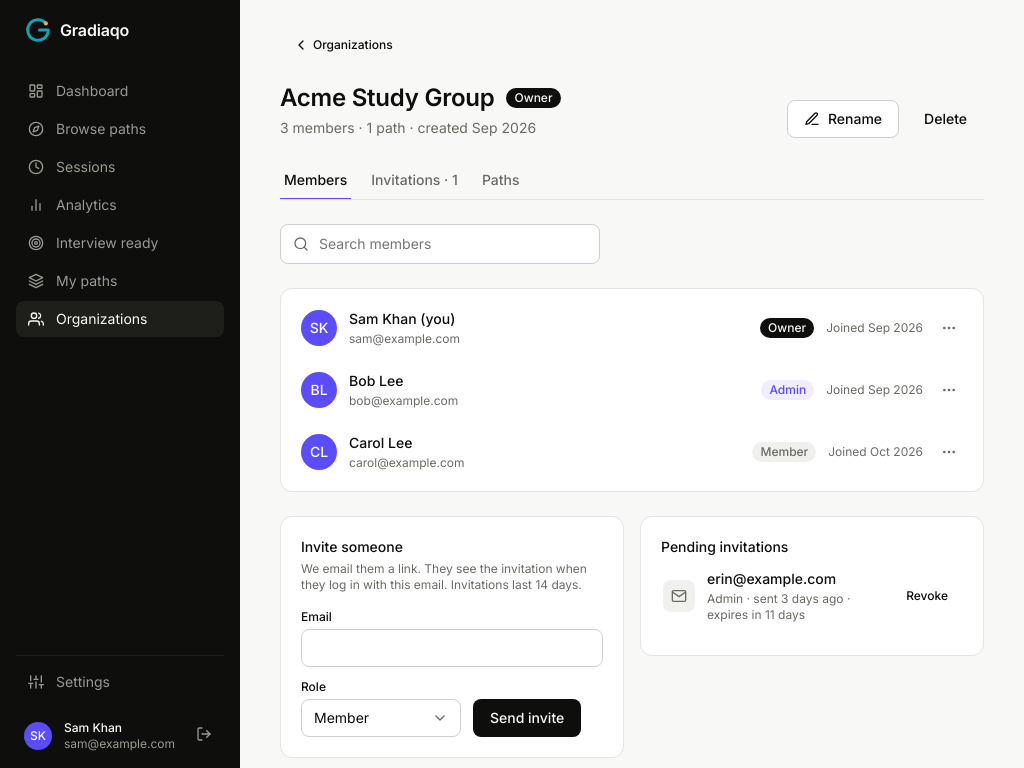
OrganizationPage › removes a member after confirming
Expected: the element named "Members" is shown, [280,288,984,492]
Click the button named "Actions for Carol Lee": (949,452) [935,438,963,466]
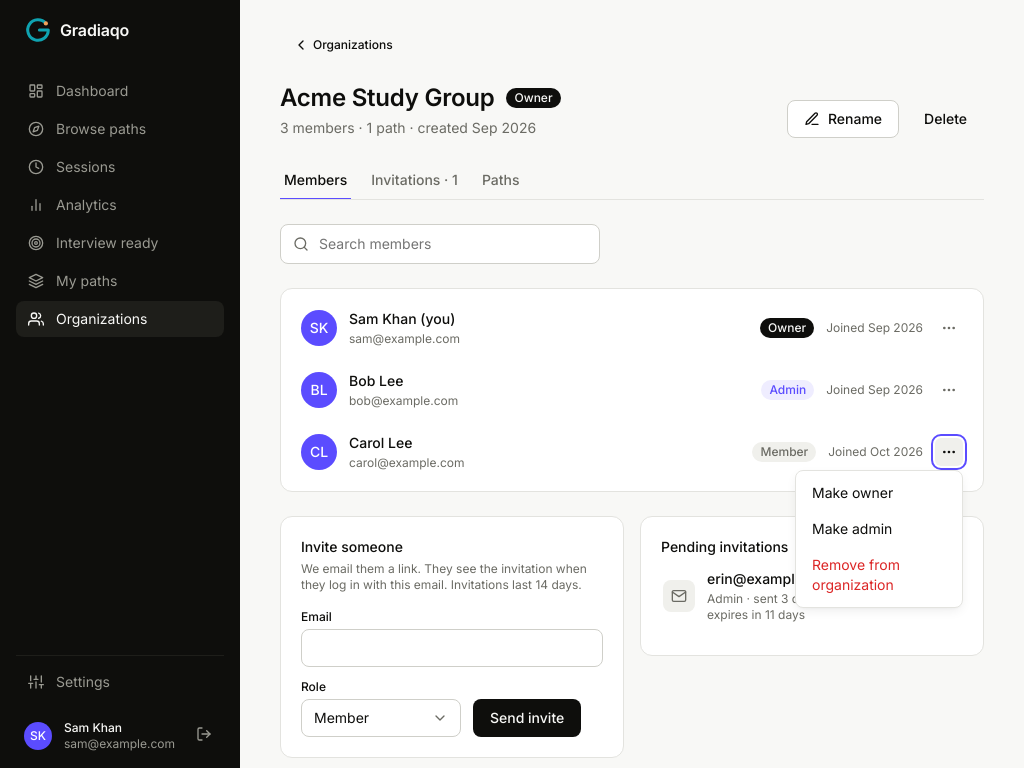
Click the button "Remove from organization": (879,575) [800,547,958,603]
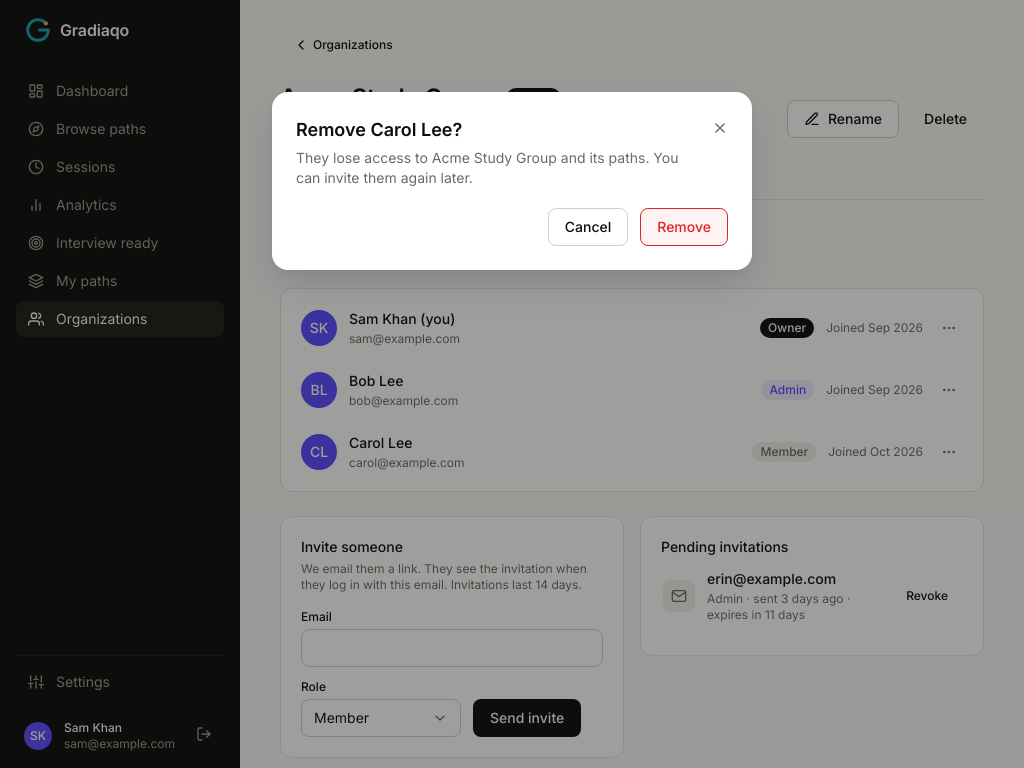
Result: the dialog "Remove Carol Lee?" shows "They lose access to Acme Study Group and its paths." at [296,149,678,186]
Click the button "Cancel": (588,227) [548,208,628,246]
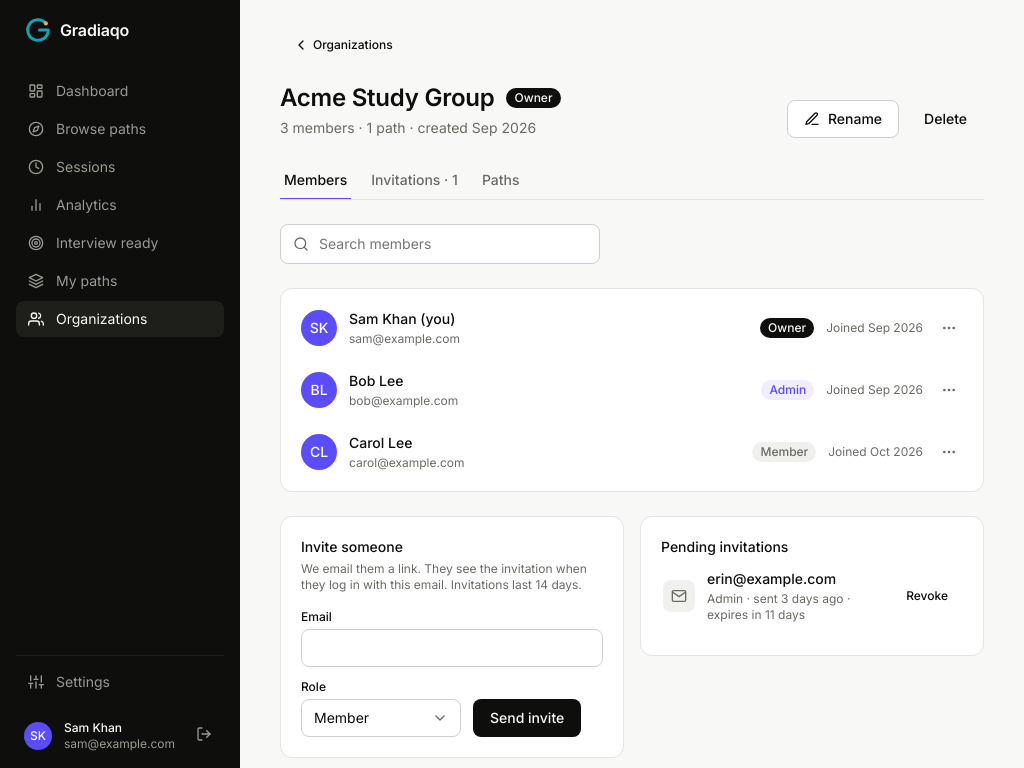
Click the button named "Actions for Carol Lee": (949,452) [935,438,963,466]
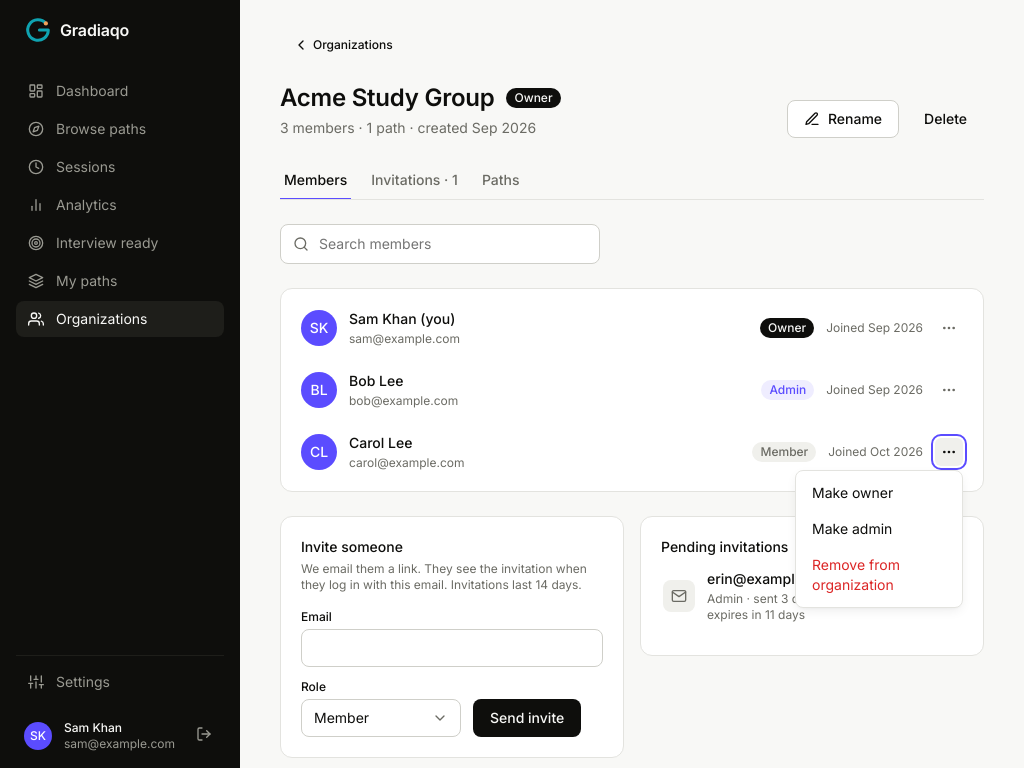
Click the button "Remove from organization": (879,575) [800,547,958,603]
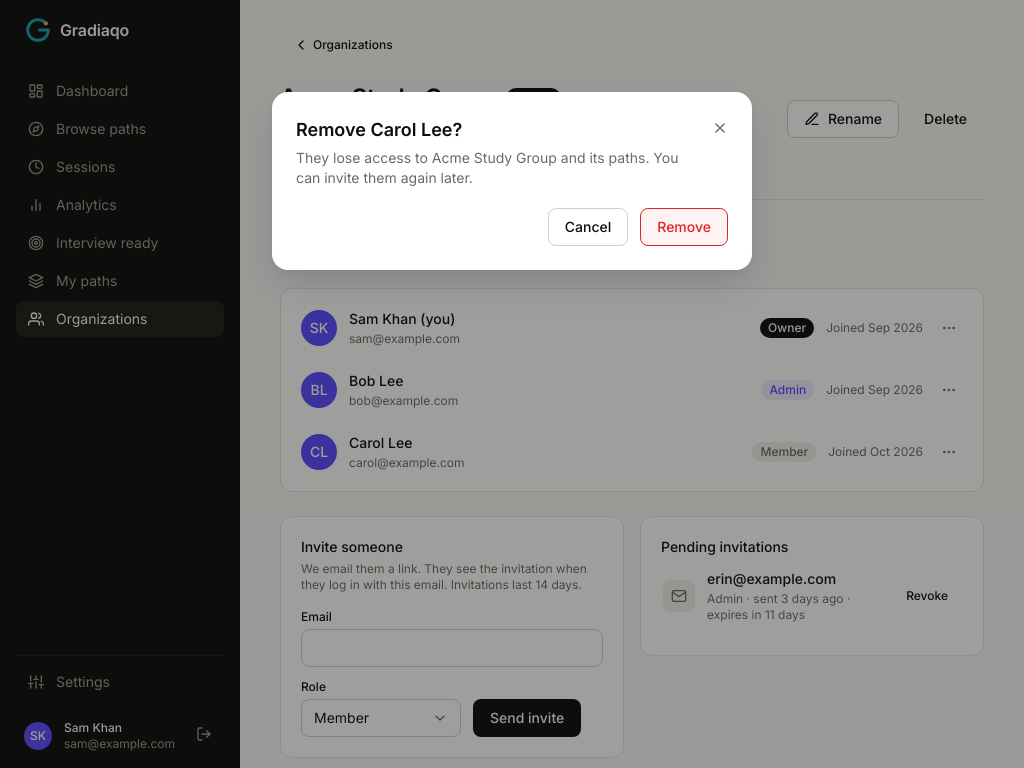
Click the button "Remove": (684,227) [640,208,728,246]
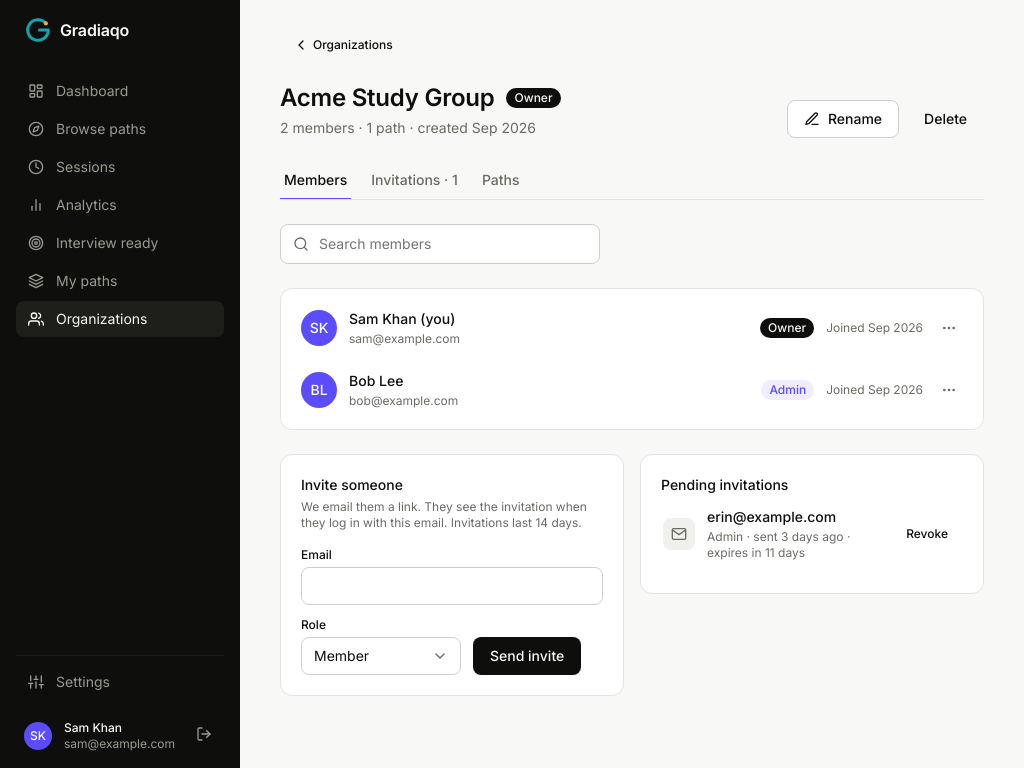
Result: the dialog is gone
Result: the text "2 members · 1 path · created Sep 2026" is shown at [280,118,560,138]
